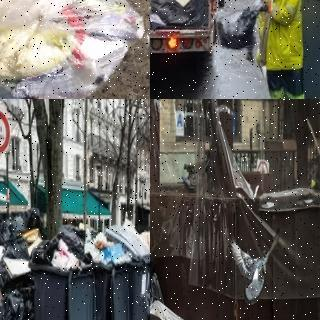Garbage: (0, 0, 150, 99), (215, 10, 256, 51), (150, 0, 189, 27)
